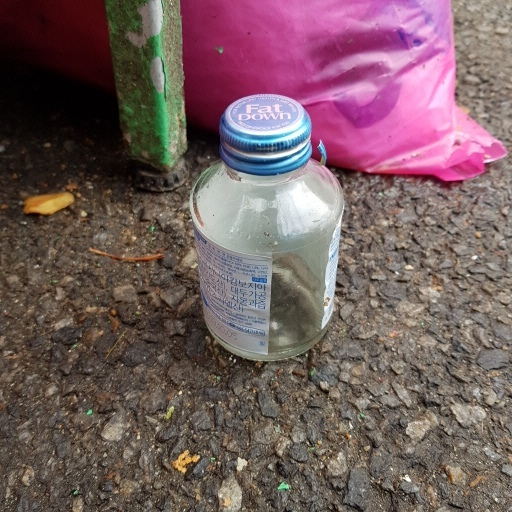Glass_4: (180, 87, 346, 368)
